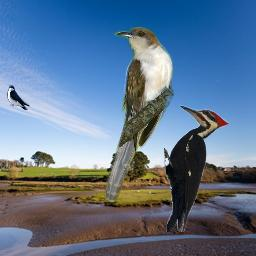Cuckoo: (104, 27, 174, 202)
Swallow: (7, 85, 30, 110)
Woodpecker: (164, 104, 232, 232)
